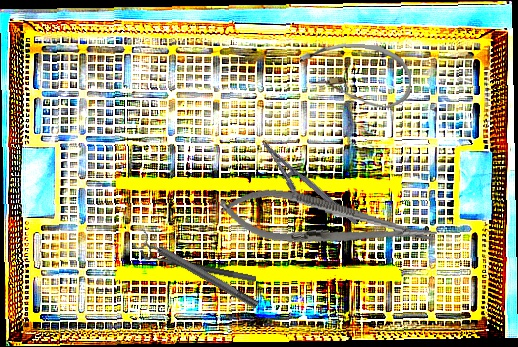Cannula: (297, 41, 413, 109)
Fixation Ring: (131, 227, 263, 316), (138, 241, 259, 284)
Needle Holder: (215, 181, 440, 264), (250, 140, 359, 238)
